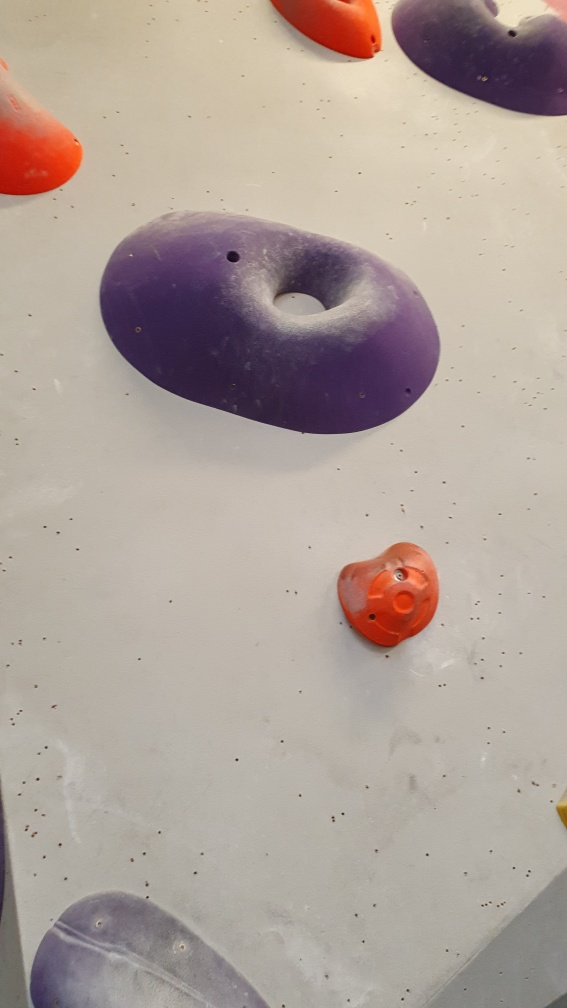Pocket: (100, 209, 442, 434)
